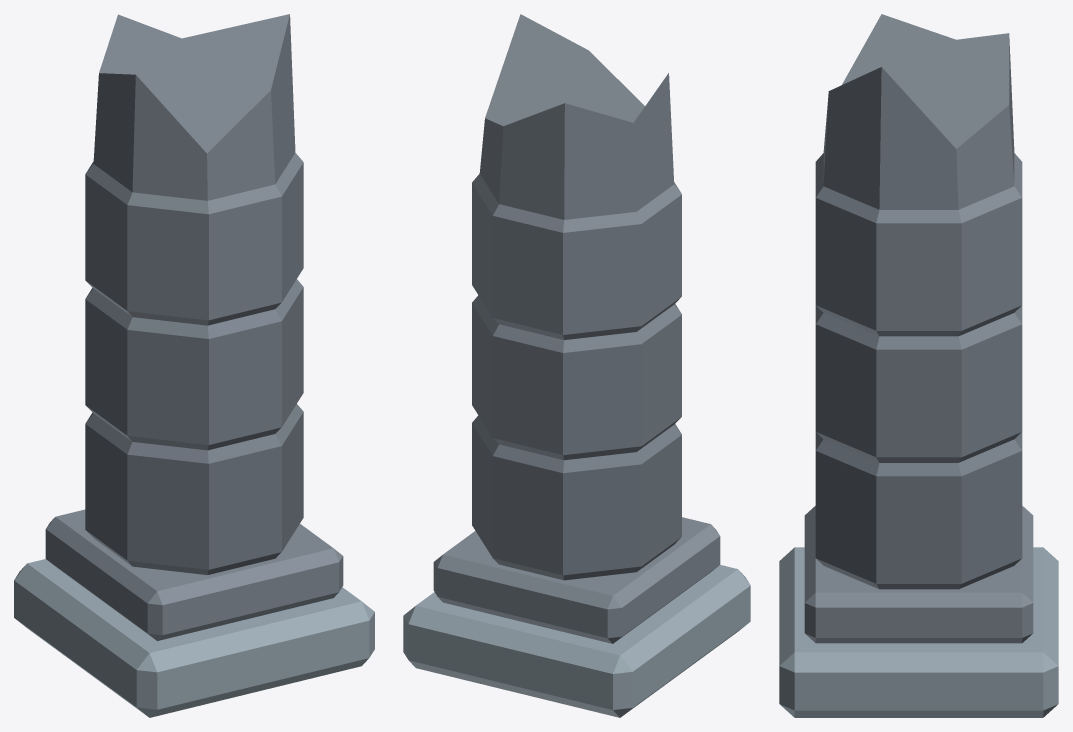
The model's file is MOD_16_Pillar_Broken.glb.
The picture shows the model from 3 angles, left to right: view 1: azimuth 30°, elevation 25°; view 2: azimuth 150°, elevation 25°; view 3: azimuth 270°, elevation 25°; orthographic projection. The views are drawn at different scales.
Visible parts, largest first — view 1: MOD_16_Pillar_Broken; view 2: MOD_16_Pillar_Broken; view 3: MOD_16_Pillar_Broken.
Part boxes in pixels (bbox=[...]): MOD_16_Pillar_Broken: bbox=[14, 14, 374, 717]; MOD_16_Pillar_Broken: bbox=[403, 14, 750, 717]; MOD_16_Pillar_Broken: bbox=[779, 14, 1058, 717].
Bounding box in the file's own units: 1 × 2.52 × 1.
